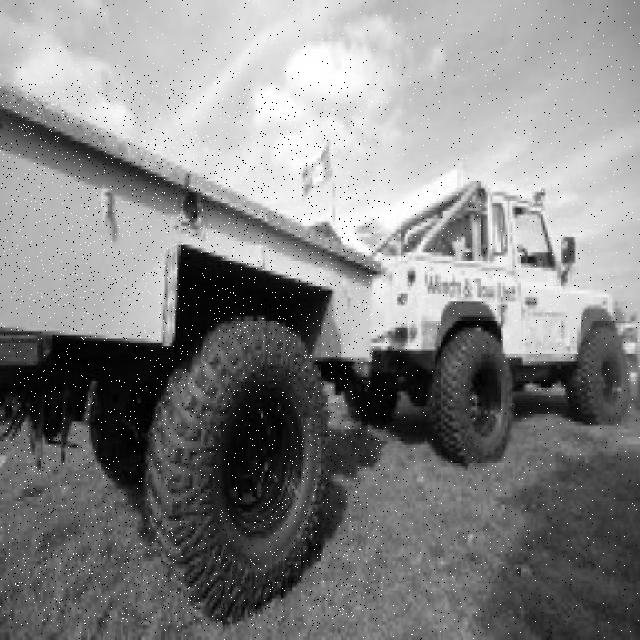Box Truck: (0, 81, 385, 626)
